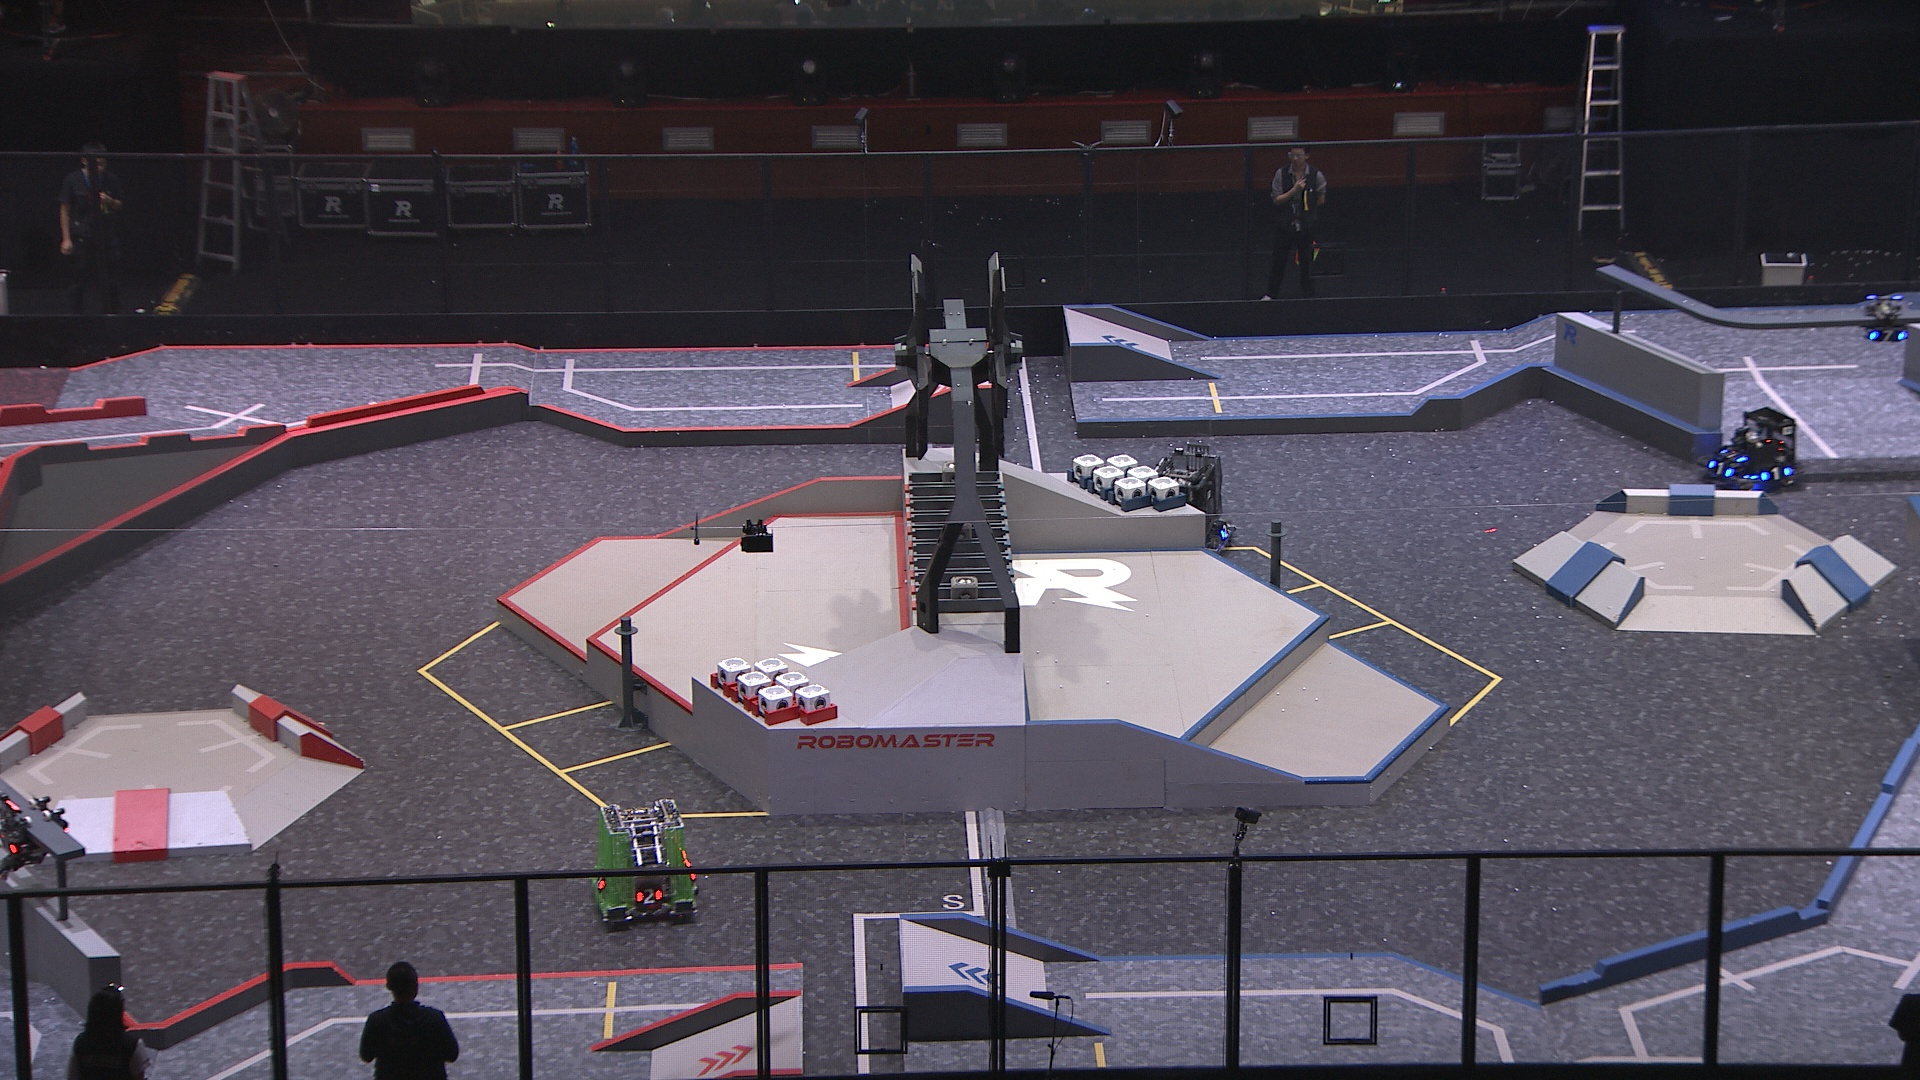armor: (1759, 467, 1793, 483), (1706, 460, 1735, 479), (636, 887, 665, 905), (1866, 330, 1907, 342), (1721, 448, 1749, 463), (593, 874, 609, 891), (1218, 524, 1232, 541)
car: (585, 799, 703, 922), (1141, 442, 1240, 556), (1698, 405, 1807, 498)
watcher: (1858, 295, 1908, 343)
